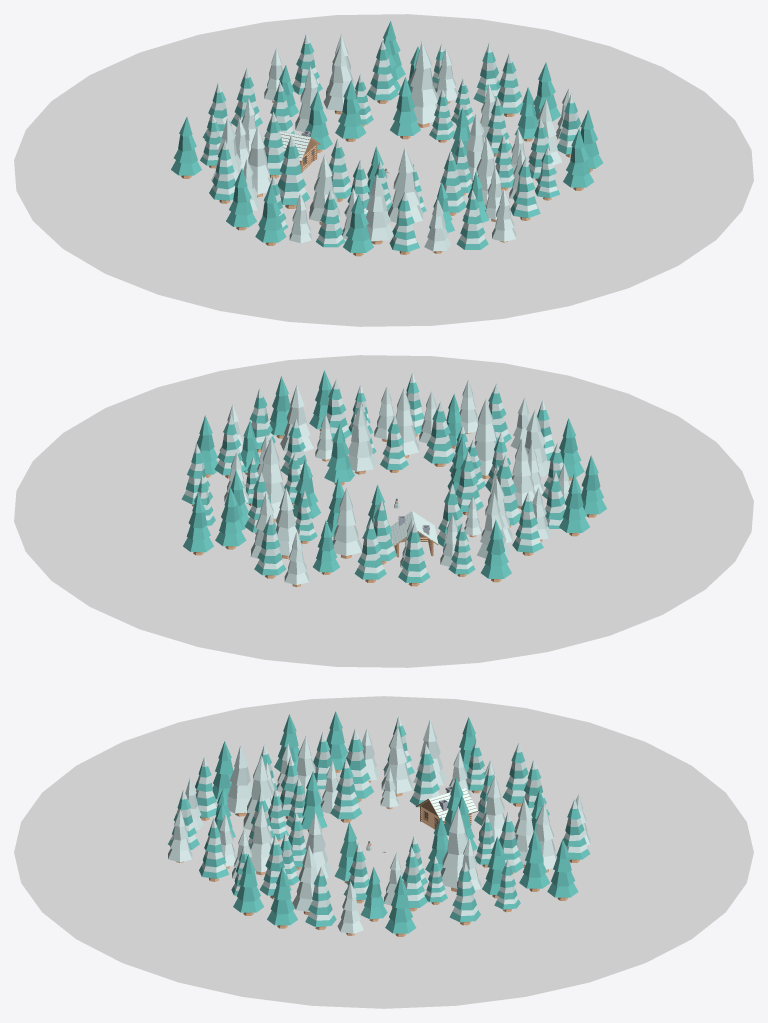
Rendered from fishforest.glb.
The picture shows the model from 3 angles, top to bottom: view 1: azimuth 30°, elevation 25°; view 2: azimuth 150°, elevation 25°; view 3: azimuth 270°, elevation 25°; orthographic projection.
Visible parts, largest first — view 1: Circle, treePineSnowed.002, treePineSnow.010, treePineSnowed.007, treePineSnowed.014, treePineSnow.025, treePineSnow.028, treePineSnowed.012, treePineSnow.017, treePineSnow.016, treePine.001, treePine.013 (+43 smaller); view 2: Circle, treePineSnowed, treePineSnowed.018, treePineSnow.004, treePineSnowed.007, treePineSnow.022, treePineSnow.023, treePineSnow.024, treePineSnowed.002, treePineSnow.020, treePine.018, treePine.011 (+42 smaller); view 3: Circle, treePineSnowed.002, treePineSnowed.014, treePineSnowed.021, treePineSnow.007, treePineSnow.013, treePineSnow.014, treePineSnow.016, treePine.014, treePine.013, treePine.019, treePine.011 (+43 smaller).
Boxes of the visible parts, x1,y1,x2,y2 form: Circle: (14,14,753,326); treePineSnowed.002: (410,41,438,127); treePineSnow.010: (277,135,309,208); treePineSnowed.007: (388,147,422,222); treePineSnowed.014: (366,174,393,244); treePineSnow.025: (366,40,398,103); treePineSnow.028: (456,190,488,249); treePineSnowed.012: (323,44,351,114); treePineSnow.017: (389,191,419,254); treePineSnow.016: (510,157,540,220); treePine.001: (390,77,420,139); treePine.013: (563,128,594,190); Circle: (14,355,753,667); treePineSnowed: (333,488,361,558); treePineSnowed.018: (348,404,376,474); treePineSnow.004: (423,401,454,466); treePineSnowed.007: (474,398,496,478); treePineSnow.022: (398,522,429,586); treePineSnow.023: (254,515,286,578); treePineSnow.024: (354,519,386,582); treePineSnowed.002: (261,437,284,522); treePineSnow.020: (512,491,543,555); treePine.018: (481,520,511,582); treePine.011: (215,487,246,549); Circle: (14,696,753,1008); treePineSnowed.002: (441,806,468,892); treePineSnowed.014: (227,746,252,816); treePineSnowed.021: (381,726,412,796); treePineSnow.007: (330,758,362,822); treePineSnow.013: (449,861,480,925); treePineSnow.014: (305,866,336,930); treePineSnow.016: (199,818,228,881); treePine.014: (267,867,297,928); treePine.013: (233,854,263,915); treePine.019: (547,839,578,900); treePine.011: (519,830,549,891).
Size of the model in its own units: 141 by 19.65 by 141.
